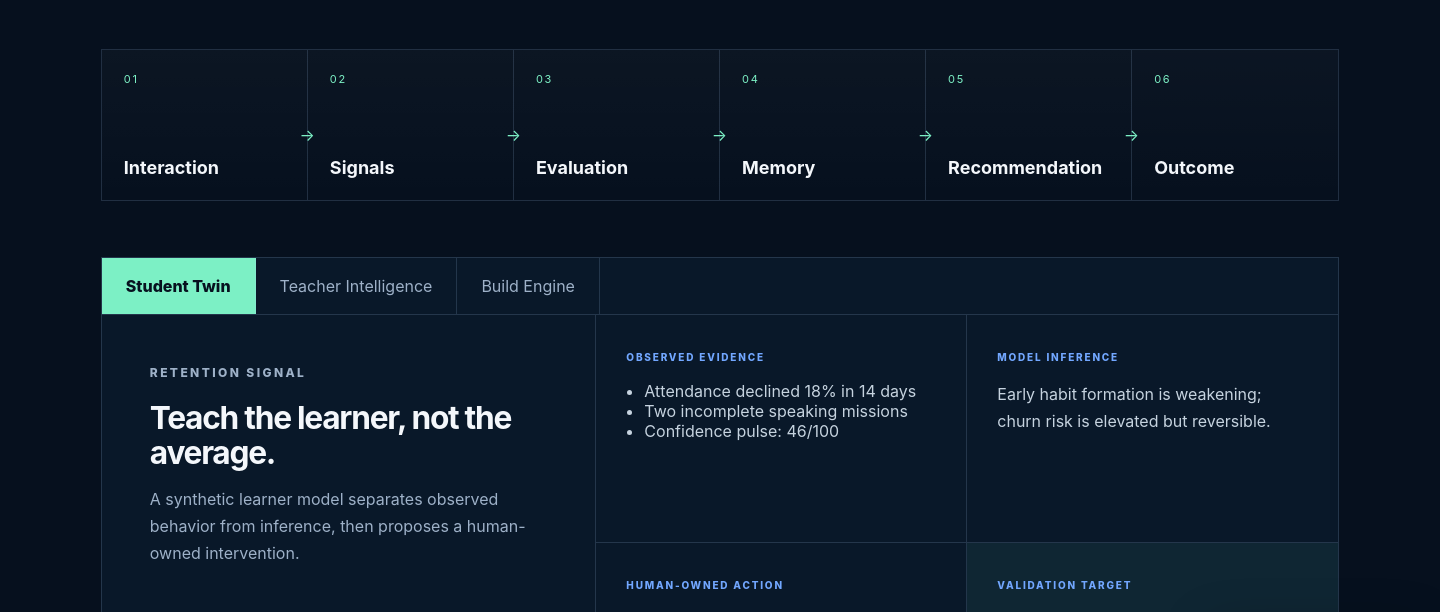
Test: Open English AI-Native executive experience › preserves student, teacher, and engineering evidence views
The width and height of the screenshot is (1440, 612).
(page scrolled)
Expected: the list item "Attendance declined 18% in 14 days" is shown, [644,381,936,401]
Click the tab "Teacher Intelligence" at x=356, y=286, box [256,258,457,314]
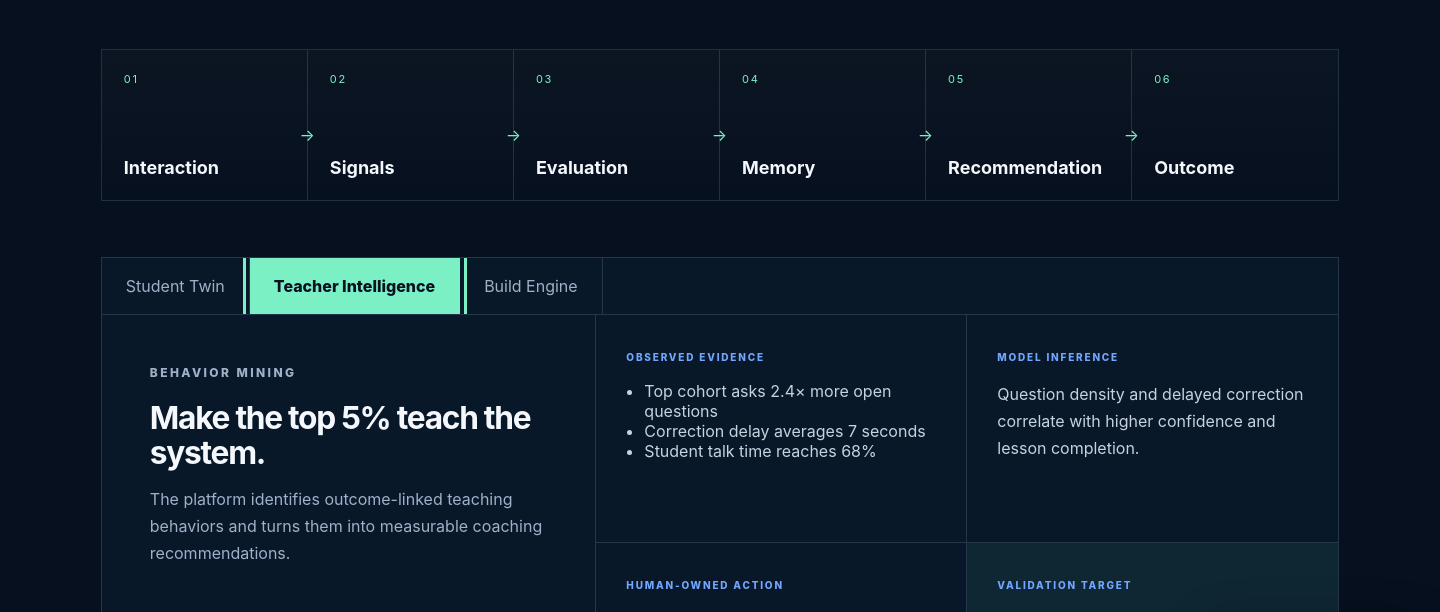
Expected: the list item "Top cohort asks 2.4× more open questions" is shown, [644,381,892,421]
Click the tab "Build Engine" at x=531, y=286, box [460,258,603,314]
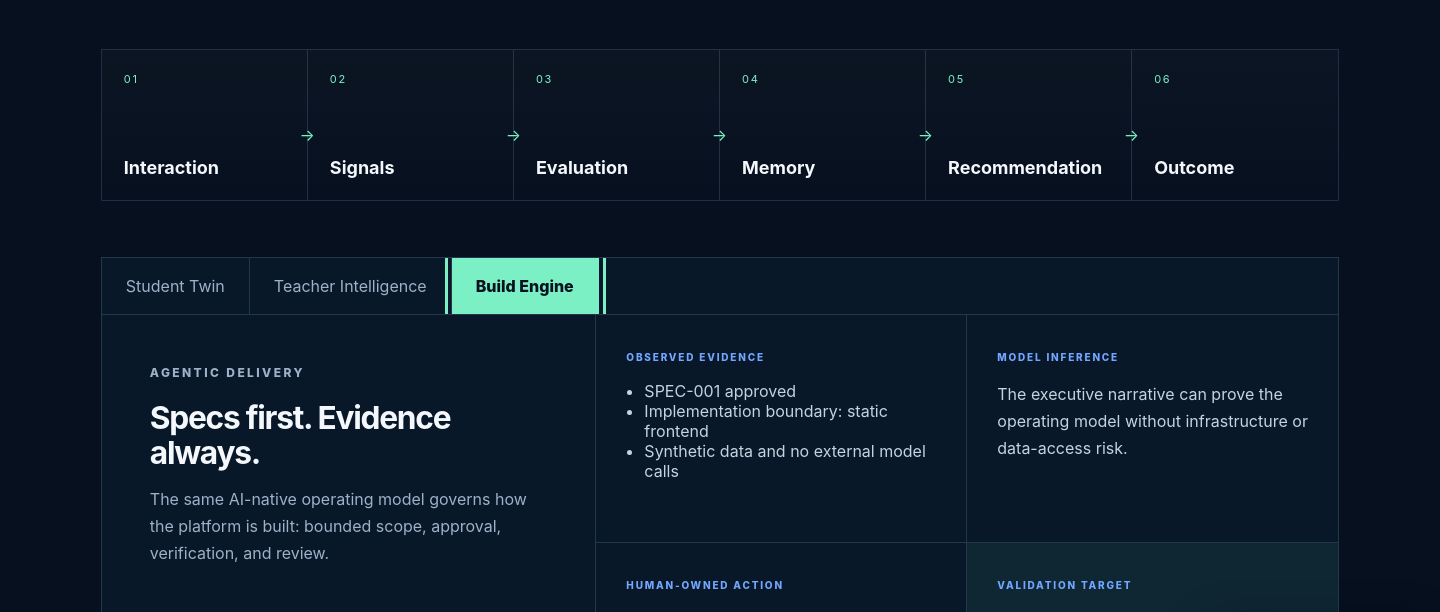
Expected: the list item "SPEC-001 approved" is shown, [644,381,796,401]
